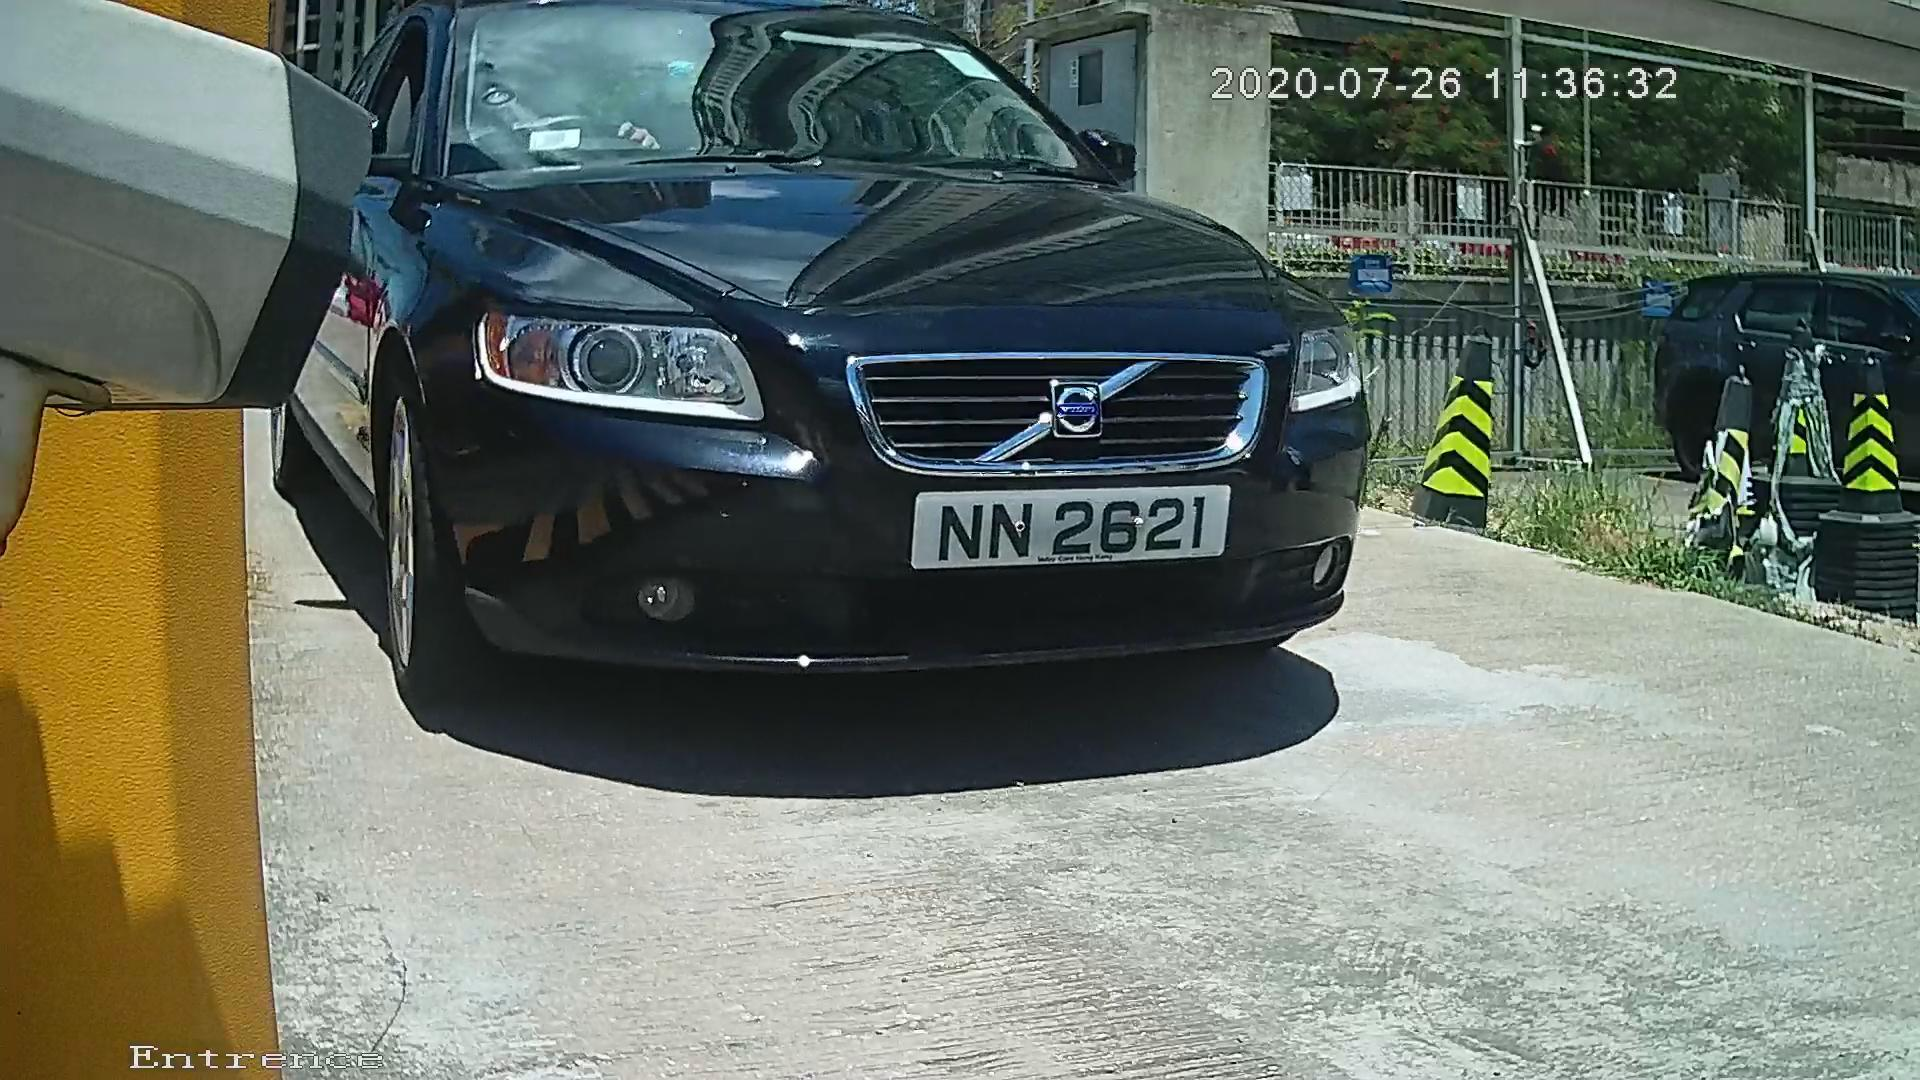privatecar: (223, 11, 1501, 782)
